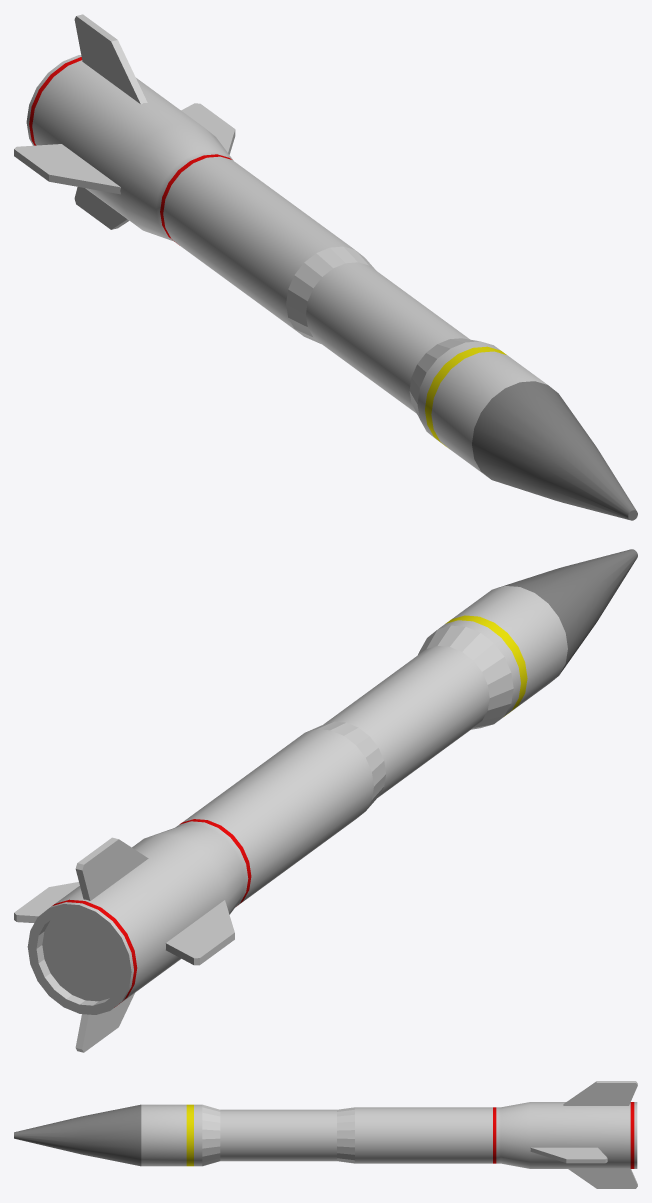
Rendered from ShoulderMissle.fbx.
3 views of the same model, one above another, from view 1: azimuth 30°, elevation 25°; view 2: azimuth 150°, elevation 25°; view 3: azimuth 270°, elevation 25° (orthographic). The views are drawn at different scales.
Visible parts, largest first — view 1: Missle; view 2: Missle; view 3: Missle.
Boxes of the visible parts, x1=… form: Missle: x1=14, y1=14, x2=637, y2=520; Missle: x1=14, y1=549, x2=637, y2=1052; Missle: x1=14, y1=1081, x2=637, y2=1188.
Bounding box in the file's own units: 0.3535 × 0.3415 × 1.82.
